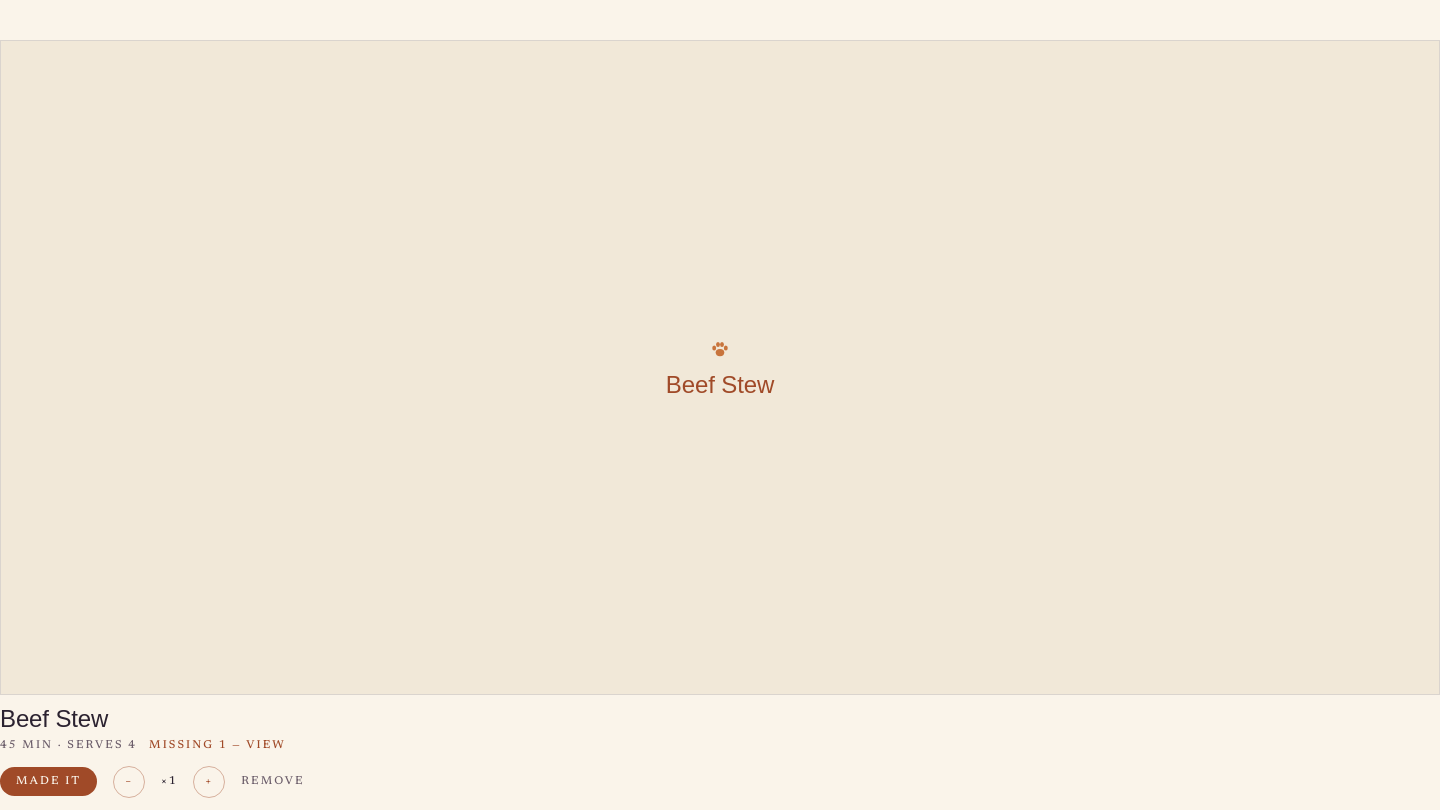
Test: MenuView › expands the missing list and adds an ingredient to the grocery list
Click the button "Missing 1 — view". click: {"x": 217, "y": 745}
box: x1=149 y1=736 x2=286 y2=754
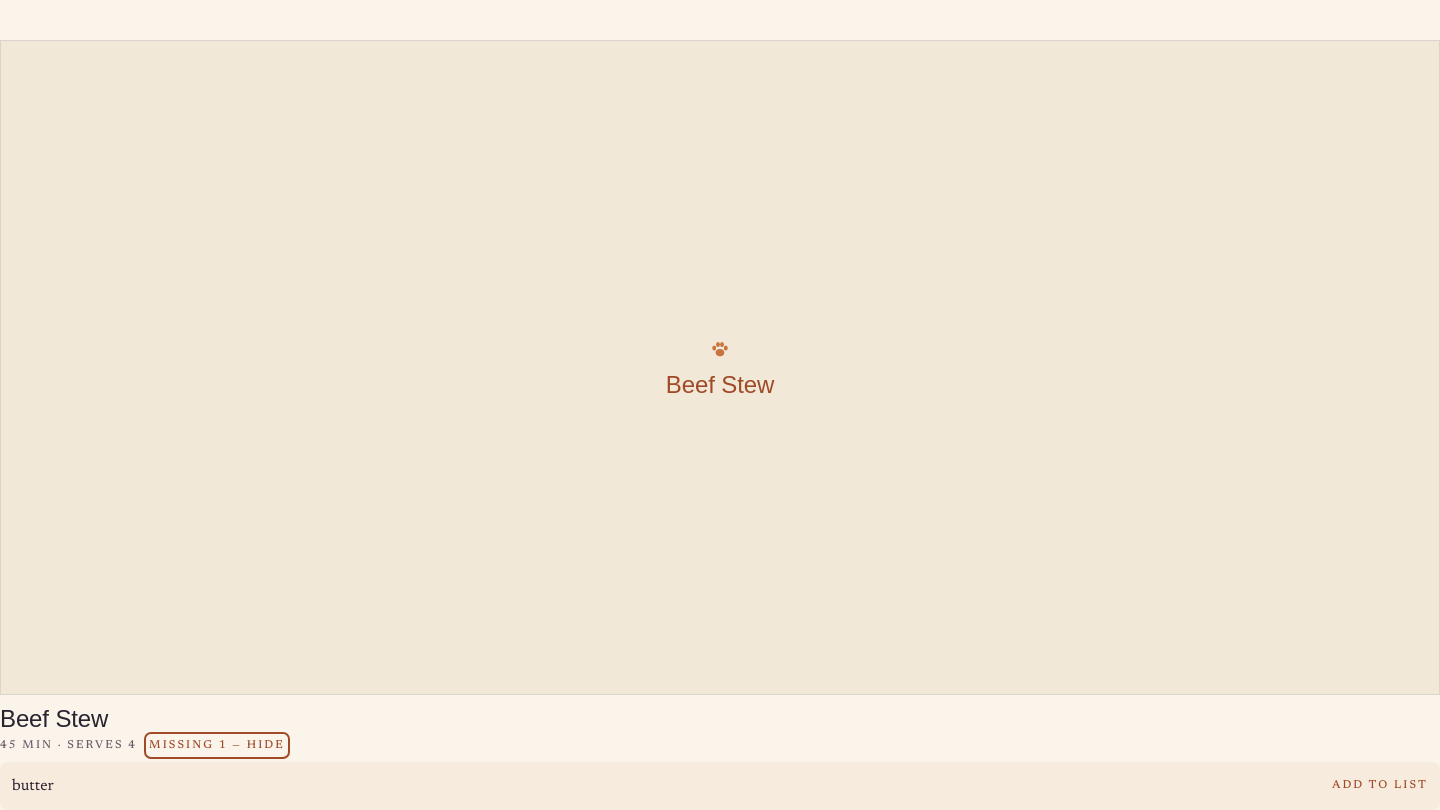
Click the button "Add to list". click: {"x": 1380, "y": 786}
box: x1=1332 y1=777 x2=1428 y2=794
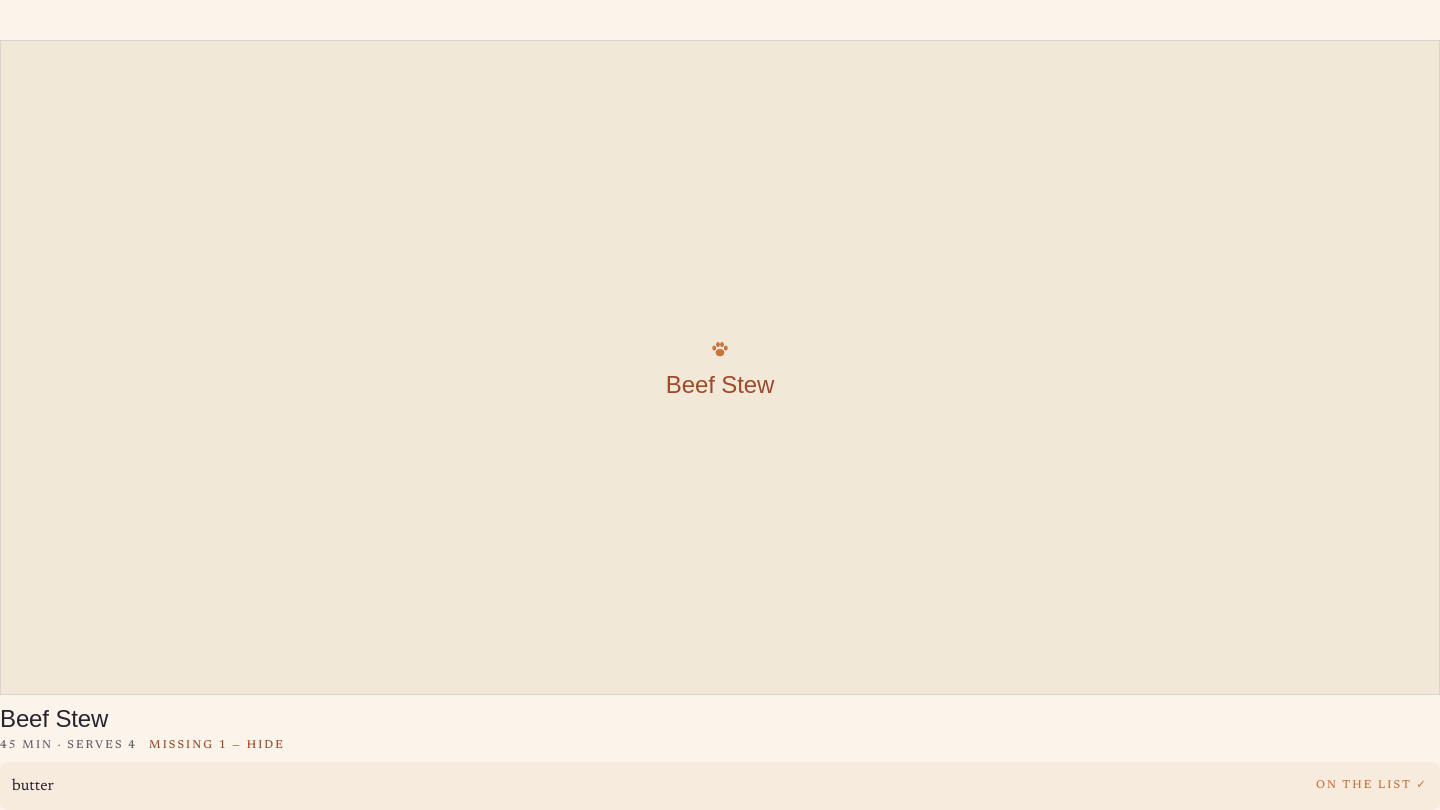
Result: the text "On the list ✓" is shown at x1=1316 y1=777 x2=1428 y2=794
